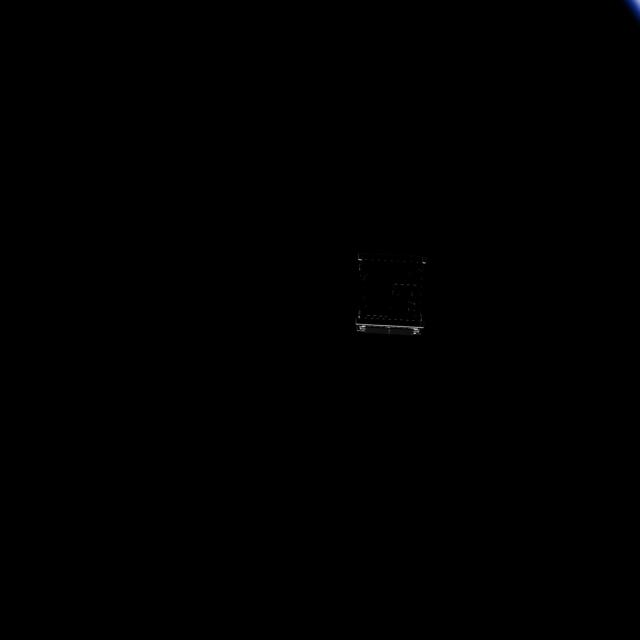satellite: (345, 241, 429, 347)
